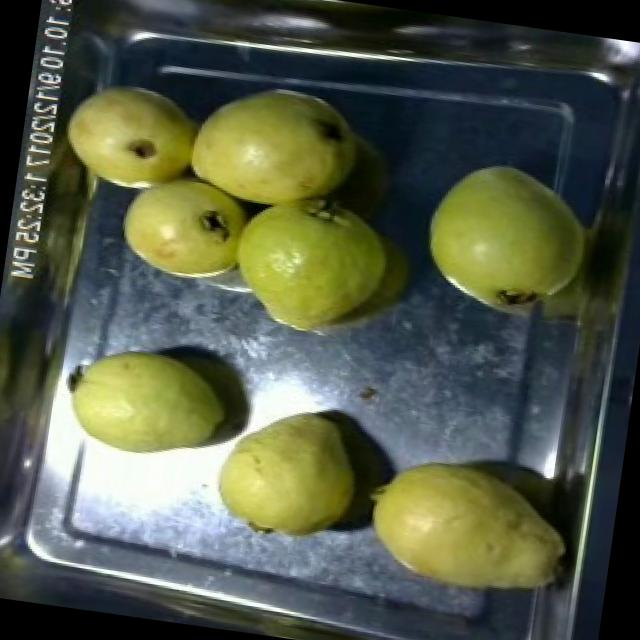Fruit: (348, 436, 584, 619), (203, 178, 409, 358), (173, 62, 380, 237), (409, 147, 604, 330), (194, 386, 378, 559), (100, 140, 286, 306), (51, 327, 243, 478), (51, 68, 214, 208)
